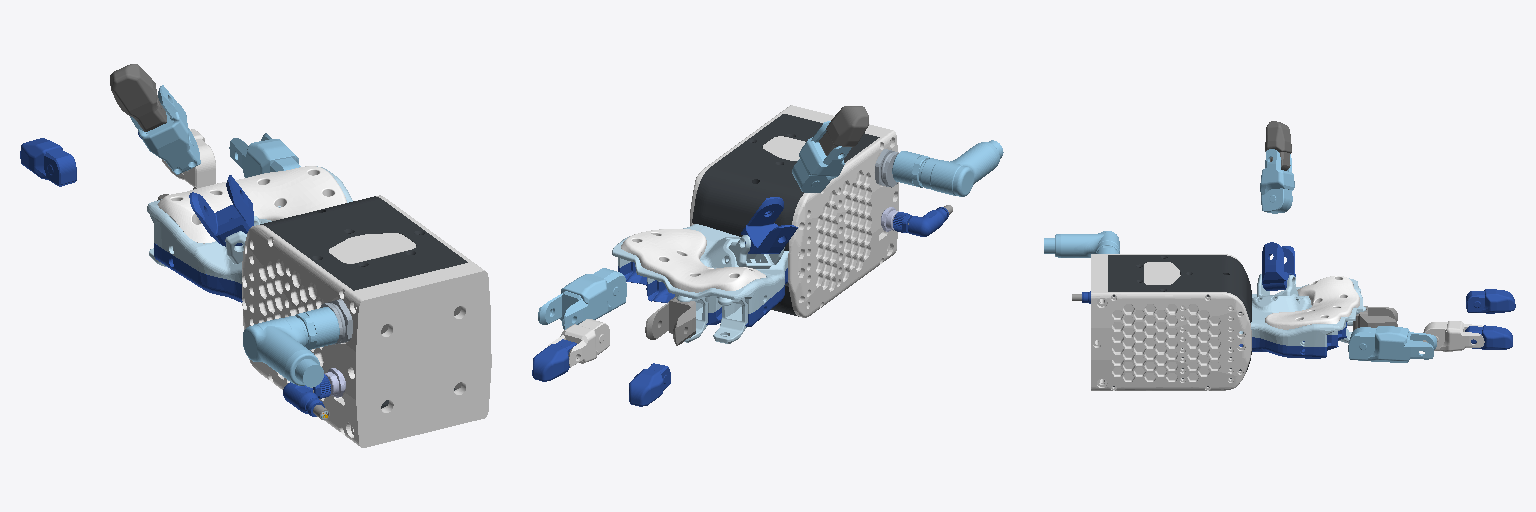
--- Facts derived from the render (not from the file) ---
The picture shows the robot from 3 angles, left to right: view 1: azimuth 30°, elevation 25°; view 2: azimuth 150°, elevation 25°; view 3: azimuth 270°, elevation 25°; orthographic projection.
Robot: Artus3D_LeftHand — 22 links, 21 joints (20 revolute, 1 fixed); root link base_link; default pose: all joints at 0.
Visible links, largest first — view 1: left_-_forearm_and_palm_subassembly_copy_1, part_1_19, part_1_20, part_1_17, part_1_6, d1_urdf_mk_5_3, part_1_11; view 2: left_-_forearm_and_palm_subassembly_copy_1, part_1_6, part_1_19, part_1_17, part_1_4, part_1_11, part_1_20, d1_urdf_mk_5_3, d1_urdf_mk_5_4; view 3: left_-_forearm_and_palm_subassembly_copy_1, part_1_6, part_1_19, part_1_17, part_1_11, d1_urdf_mk_5_3, part_1_20, d1_urdf_mk_5_4, part_1_4.
Boxes of the visible links, x1,y1,x2,y2 form: left_-_forearm_and_palm_subassembly_copy_1: (147, 166, 491, 447); part_1_19: (130, 85, 200, 174); part_1_20: (110, 64, 166, 131); part_1_17: (189, 175, 253, 246); part_1_6: (229, 133, 300, 177); d1_urdf_mk_5_3: (20, 138, 76, 186); part_1_11: (162, 129, 215, 187); left_-_forearm_and_palm_subassembly_copy_1: (612, 105, 1003, 343); part_1_6: (538, 268, 626, 329); part_1_19: (792, 121, 851, 192); part_1_17: (741, 197, 797, 253); part_1_4: (645, 297, 695, 345); part_1_11: (548, 319, 609, 367); part_1_20: (819, 106, 868, 155); d1_urdf_mk_5_3: (629, 363, 670, 406); d1_urdf_mk_5_4: (532, 339, 576, 381); left_-_forearm_and_palm_subassembly_copy_1: (1044, 231, 1365, 390); part_1_6: (1348, 326, 1436, 362); part_1_19: (1260, 149, 1294, 213); part_1_17: (1262, 242, 1295, 290); part_1_11: (1423, 321, 1484, 351); d1_urdf_mk_5_3: (1466, 289, 1515, 313); part_1_20: (1265, 121, 1291, 170); d1_urdf_mk_5_4: (1465, 325, 1512, 349); part_1_4: (1353, 306, 1397, 330).
Size in the robot's own frame: 0.1328 by 0.3002 by 0.1421 metres.
Meshes: 48 distinct files referenced, 45 mesh visuals loaded (33 binary STL); not drawn: 16 (reference not matched to a file when rendering).

URDF robot description (Artus3D_LeftHand):
<robot name="Artus3D_LeftHand">
<link name= "base_link"/>


<joint name="virtual" type="fixed">
<origin xyz="0 0 0" rpy="0 3.14 0"/>
<parent link="base_link"/>
<child link="left_-_forearm_and_palm_subassembly_copy_1"/>
</joint>

<link name="left_-_forearm_and_palm_subassembly_copy_1">
<visual>
<origin xyz="0.054879955648381877065 0.0076883312241074327695 0.008260321555686685191" rpy="1.570796326794896336 -8.0686821653843871675e-17 -3.141592653589793116" />
<geometry>
<mesh filename="meshes/7138k48_nano_m8_connector_6.stl"/>
</geometry>
<material name="7138k48_nano_m8_connector_6_material">
<color rgba="0.76862745098039220171 0.88627450980392152857 0.95294117647058818044 1.0"/>
</material>
</visual>
<collision>
<origin xyz="0.054879955648381877065 0.0076883312241074327695 0.008260321555686685191" rpy="1.570796326794896336 -8.0686821653843871675e-17 -3.141592653589793116" />
<geometry>
<mesh filename="meshes/7138k48_nano_m8_connector_6.stl"/>
</geometry>
</collision>
<visual>
<origin xyz="0.054879955648381974209 0.0076883312241073096041 0.0082603215556865429436" rpy="1.5707963267948779063 -2.2864627182922414808e-17 3.141592653589793116" />
<geometry>
<mesh filename="meshes/7138k48_nano_m8_connector_9.stl"/>
</geometry>
<material name="7138k48_nano_m8_connector_9_material">
<color rgba="0.98039215686274505668 0.71372549019607844922 0.0039215686274509803377 1.0"/>
</material>
</visual>
<collision>
<origin xyz="0.054879955648381974209 0.0076883312241073096041 0.0082603215556865429436" rpy="1.5707963267948779063 -2.2864627182922414808e-17 3.141592653589793116" />
<geometry>
<mesh filename="meshes/7138k48_nano_m8_connector_9.stl"/>
</geometry>
</collision>
<visual>
<origin xyz="0.054879955648381974209 0.0076883312241073096041 0.0082603215556865429436" rpy="1.5707963267948779063 -2.2864627182922414808e-17 3.141592653589793116" />
<geometry>
<mesh filename="meshes/7138k48_nano_m8_connector_12.stl"/>
</geometry>
<material name="7138k48_nano_m8_connector_12_material">
<color rgba="0.2313725490196078538 0.38039215686274507888 0.7058823529411765163 1.0"/>
</material>
</visual>
<collision>
<origin xyz="0.054879955648381974209 0.0076883312241073096041 0.0082603215556865429436" rpy="1.5707963267948779063 -2.2864627182922414808e-17 3.141592653589793116" />
<geometry>
<mesh filename="meshes/7138k48_nano_m8_connector_12.stl"/>
</geometry>
</collision>
<visual>
<origin xyz="0.10782996888245702238 0.17284073122410725798 0.013563106819823936289" rpy="0 -0 3.141592653589793116" />
<geometry>
<mesh filename="meshes/l_forearm_back_cover.stl"/>
</geometry>
<material name="l_forearm_back_cover_material">
<color rgba="0.26274509803921569651 0.28235294117647058432 0.30196078431372547213 1.0"/>
</material>
</visual>
<collision>
<origin xyz="0.10782996888245702238 0.17284073122410725798 0.013563106819823936289" rpy="0 -0 3.141592653589793116" />
<geometry>
<mesh filename="meshes/l_forearm_back_cover.stl"/>
</geometry>
</collision>
<visual>
<origin xyz="0.0080299688824571058277 0.25059073122410657763 0.0049131068198240649553" rpy="-1.613736433077298981e-16 1.3010426069826057152e-15 -1.5707963267948970021" />
<geometry>
<mesh filename="meshes/d5-_lring.stl"/>
</geometry>
<material name="d5-_lring_material">
<color rgba="0.76862745098039220171 0.88627450980392152857 0.95294117647058818044 1.0"/>
</material>
</visual>
<collision>
<origin xyz="0.0080299688824571058277 0.25059073122410657763 0.0049131068198240649553" rpy="-1.613736433077298981e-16 1.3010426069826057152e-15 -1.5707963267948970021" />
<geometry>
<mesh filename="meshes/d5-_lring.stl"/>
</geometry>
</collision>
<visual>
<origin xyz="0.035076299430739449337 0.24734466793926807027 0.0019131068198240622907" rpy="-2.4771671902375037252e-16 1.3489052410272972017e-15 -1.6406094968746700591" />
<geometry>
<mesh filename="meshes/d5-_lring.stl"/>
</geometry>
<material name="d5-_lring_material">
<color rgba="0.76862745098039220171 0.88627450980392152857 0.95294117647058818044 1.0"/>
</material>
</visual>
<collision>
<origin xyz="0.035076299430739449337 0.24734466793926807027 0.0019131068198240622907" rpy="-2.4771671902375037252e-16 1.3489052410272972017e-15 -1.6406094968746700591" />
<geometry>
<mesh filename="meshes/d5-_lring.stl"/>
</geometry>
</collision>
<visual>
<origin xyz="0.054879955648381877065 0.0076883312241074327695 0.008260321555686685191" rpy="1.570796326794896336 -8.0686821653843871675e-17 -3.141592653589793116" />
<geometry>
<mesh filename="meshes/7138k48_nano_m8_connector_1.stl"/>
</geometry>
<material name="7138k48_nano_m8_connector_1_material">
<color rgba="0.98039215686274505668 0.71372549019607844922 0.0039215686274509803377 1.0"/>
</material>
</visual>
<collision>
<origin xyz="0.054879955648381877065 0.0076883312241074327695 0.008260321555686685191" rpy="1.570796326794896336 -8.0686821653843871675e-17 -3.141592653589793116" />
<geometry>
<mesh filename="meshes/7138k48_nano_m8_connector_1.stl"/>
</geometry>
</collision>
<visual>
<origin xyz="0.054879955648381877065 0.0076883312241074327695 0.008260321555686685191" rpy="1.570796326794896336 -8.0686821653843871675e-17 -3.141592653589793116" />
<geometry>
<mesh filename="meshes/7138k48_nano_m8_connector_9.stl"/>
</geometry>
<material name="7138k48_nano_m8_connector_9_material">
<color rgba="0.98039215686274505668 0.71372549019607844922 0.0039215686274509803377 1.0"/>
</material>
</visual>
<collision>
<origin xyz="0.054879955648381877065 0.0076883312241074327695 0.008260321555686685191" rpy="1.570796326794896336 -8.0686821653843871675e-17 -3.141592653589793116" />
<geometry>
<mesh filename="meshes/7138k48_nano_m8_connector_9.stl"/>
</geometry>
</collision>
<visual>
<origin xyz="0.054879955648381877065 0.0076883312241074327695 0.008260321555686685191" rpy="1.570796326794896336 -8.0686821653843871675e-17 -3.141592653589793116" />
<geometry>
<mesh filename="meshes/7138k48_nano_m8_connector_11.stl"/>
</geometry>
<material name="7138k48_nano_m8_connector_11_material">
<color rgba="0.64705882352941179736 0.64705882352941179736 0.64705882352941179736 1.0"/>
</material>
</visual>
<collision>
<origin xyz="0.054879955648381877065 0.0076883312241074327695 0.008260321555686685191" rpy="1.570796326794896336 -8.0686821653843871675e-17 -3.141592653589793116" />
<geometry>
<mesh filename="meshes/7138k48_nano_m8_connector_11.stl"/>
</geometry>
</collision>
<visual>
<origin xyz="0.054879955648381877065 0.0076883312241074327695 0.008260321555686685191" rpy="1.570796326794896336 -8.0686821653843871675e-17 -3.141592653589793116" />
<geometry>
<mesh filename="meshes/7138k48_nano_m8_connector_5.stl"/>
</geometry>
<material name="7138k48_nano_m8_connector_5_material">
<color rgba="0.91764705882352937127 0.91764705882352937127 0.91764705882352937127 1.0"/>
</material>
</visual>
<collision>
<origin xyz="0.054879955648381877065 0.0076883312241074327695 0.008260321555686685191" rpy="1.570796326794896336 -8.0686821653843871675e-17 -3.141592653589793116" />
<geometry>
<mesh filename="meshes/7138k48_nano_m8_connector_5.stl"/>
</geometry>
</collision>
<visual>
<origin xyz="0.054879955648381974209 0.0076883312241073096041 0.0082603215556865429436" rpy="1.5707963267948779063 -2.2864627182922414808e-17 3.141592653589793116" />
<geometry>
<mesh filename="meshes/7138k48_nano_m8_connector_2.stl"/>
</geometry>
<material name="7138k48_nano_m8_connector_2_material">
<color rgba="0.61568627450980395466 0.81176470588235294379 0.92941176470588238168 1.0"/>
</material>
</visual>
<collision>
<origin xyz="0.054879955648381974209 0.0076883312241073096041 0.0082603215556865429436" rpy="1.5707963267948779063 -2.2864627182922414808e-17 3.141592653589793116" />
<geometry>
<mesh filename="meshes/7138k48_nano_m8_connector_2.stl"/>
</geometry>
</collision>
<visual>
<origin xyz="0.054879955648381974209 0.0076883312241073096041 0.0082603215556865429436" rpy="1.5707963267948779063 -2.2864627182922414808e-17 3.141592653589793116" />
<geometry>
<mesh filename="meshes/7138k48_nano_m8_connector_8.stl"/>
</geometry>
<material name="7138k48_nano_m8_connector_8_material">
<color rgba="0.49803921568627451677 0.49803921568627451677 0.49803921568627451677 1.0"/>
</material>
</visual>
<collision>
<origin xyz="0.054879955648381974209 0.0076883312241073096041 0.0082603215556865429436" rpy="1.5707963267948779063 -2.2864627182922414808e-17 3.141592653589793116" />
<geometry>
<mesh filename="meshes/7138k48_nano_m8_connector_8.stl"/>
</geometry>
</collision>
<visual>
<origin xyz="0.054879955648381877065 0.0076883312241074327695 0.008260321555686685191" rpy="1.570796326794896336 -8.0686821653843871675e-17 -3.141592653589793116" />
<geometry>
<mesh filename="meshes/7138k48_nano_m8_connector_3.stl"/>
</geometry>
<material name="7138k48_nano_m8_connector_3_material">
<color rgba="0.64705882352941179736 0.64705882352941179736 0.64705882352941179736 1.0"/>
</material>
</visual>
<collision>
<origin xyz="0.054879955648381877065 0.0076883312241074327695 0.008260321555686685191" rpy="1.570796326794896336 -8.0686821653843871675e-17 -3.141592653589793116" />
<geometry>
<mesh filename="meshes/7138k48_nano_m8_connector_3.stl"/>
</geometry>
</collision>
<visual>
<origin xyz="0.054879955648381877065 0.0076883312241074327695 0.008260321555686685191" rpy="1.570796326794896336 -8.0686821653843871675e-17 -3.141592653589793116" />
<geometry>
<mesh filename="meshes/7138k48_nano_m8_connector_8.stl"/>
</geometry>
<material name="7138k48_nano_m8_connector_8_material">
<color rgba="0.49803921568627451677 0.49803921568627451677 0.49803921568627451677 1.0"/>
</material>
</visual>
<collision>
<origin xyz="0.054879955648381877065 0.0076883312241074327695 0.008260321555686685191" rpy="1.570796326794896336 -8.0686821653843871675e-17 -3.141592653589793116" />
<geometry>
<mesh filename="meshes/7138k48_nano_m8_connector_8.stl"/>
</geometry>
</collision>
<visual>
<origin xyz="0.054879955648381974209 0.0076883312241073096041 0.0082603215556865429436" rpy="1.5707963267948779063 -2.2864627182922414808e-17 3.141592653589793116" />
<geometry>
<mesh filename="meshes/7138k48_nano_m8_connector_11.stl"/>
</geometry>
<material name="7138k48_nano_m8_connector_11_material">
<color rgba="0.64705882352941179736 0.64705882352941179736 0.64705882352941179736 1.0"/>
</material>
</visual>
<collision>
<origin xyz="0.054879955648381974209 0.0076883312241073096041 0.0082603215556865429436" rpy="1.5707963267948779063 -2.2864627182922414808e-17 3.141592653589793116" />
<geometry>
<mesh filename="meshes/7138k48_nano_m8_connector_11.stl"/>
</geometry>
</collision>
<visual>
<origin xyz="0.054879955648381877065 0.0076883312241074327695 0.008260321555686685191" rpy="1.570796326794896336 -8.0686821653843871675e-17 -3.141592653589793116" />
<geometry>
<mesh filename="meshes/7138k48_nano_m8_connector_10.stl"/>
</geometry>
<material name="7138k48_nano_m8_connector_10_material">
<color rgba="0.61568627450980395466 0.81176470588235294379 0.92941176470588238168 1.0"/>
</material>
</visual>
<collision>
<origin xyz="0.054879955648381877065 0.0076883312241074327695 0.008260321555686685191" rpy="1.570796326794896336 -8.0686821653843871675e-17 -3.141592653589793116" />
<geometry>
<mesh filename="meshes/7138k48_nano_m8_connector_10.stl"/>
</geometry>
</collision>
<visual>
<origin xyz="0.10782996888245702238 0.17284073122410725798 0.013563106819823936289" rpy="0 -0 3.141592653589793116" />
<geometry>
<mesh filename="meshes/l_pinky_side_forearm_cover.stl"/>
</geometry>
<material name="l_pinky_side_forearm_cover_material">
<color rgba="0.91764705882352937127 0.91764705882352937127 0.91764705882352937127 1.0"/>
</material>
</visual>
<collision>
<origin xyz="0.10782996888245702238 0.17284073122410725798 0.013563106819823936289" rpy="0 -0 3.141592653589793116" />
<geometry>
<mesh filename="meshes/l_pinky_side_forearm_cover.stl"/>
</geometry>
</collision>
<visual>
<origin xyz="0.022279968648382122987 0.015063331224107301409 0.0082603215556866903951" rpy="-1.570796326794896558 -1.5707963267948787944 0" />
<geometry>
<mesh filename="meshes/connector_2.stl"/>
</geometry>
<material name="connector_2_material">
<color rgba="0.79215686274509800047 0.81960784313725487671 0.93333333333333334814 1.0"/>
</material>
</visual>
<collision>
<origin xyz="0.022279968648382122987 0.015063331224107301409 0.0082603215556866903951" rpy="-1.570796326794896558 -1.5707963267948787944 0" />
<geometry>
<mesh filename="meshes/connector_2.stl"/>
</geometry>
</collision>
<visual>
<origin xyz="0.063795199711502548201 0.12025621774223599347 -0.083642017233696949741" rpy="-1.066316662172226204 -1.0057357117289822401 -3.1415926535897922278" />
<geometry>
<mesh filename="meshes/t5.stl"/>
</geometry>
<material name="t5_material">
<color rgba="0.76862745098039220171 0.88627450980392152857 0.95294117647058818044 1.0"/>
</material>
</visual>
<collision>
<origin xyz="0.063795199711502548201 0.12025621774223599347 -0.083642017233696949741" rpy="-1.066316662172226204 -1.0057357117289822401 -3.1415926535897922278" />
<geometry>
<mesh filename="meshes/t5.stl"/>
</geometry>
</collision>
<visual>
<origin xyz="0.017979967560434094442 0.01509220840014055369 -0.019726257885878662607" rpy="1.1839785150533513619e-17 -1.570796326794896558 0" />
<geometry>
<mesh filename="meshes/c-t4140l12041-000.stl"/>
</geometry>
<material name="c-t4140l12041-000_material">
<color rgba="0.6941176470588235059 0.74117647058823532547 0.78823529411764703401 1.0"/>
</material>
</visual>
<collision>
<origin xyz="0.017979967560434094442 0.01509220840014055369 -0.019726257885878662607" rpy="1.1839785150533513619e-17 -1.570796326794896558 0" />
<geometry>
<mesh filename="meshes/c-t4140l12041-000.stl"/>
</geometry>
</collision>
<visual>
<origin xyz="0.054879955648381974209 0.0076883312241073096041 0.0082603215556865429436" rpy="1.5707963267948779063 -2.2864627182922414808e-17 3.141592653589793116" />
<geometry>
<mesh filename="meshes/7138k48_nano_m8_connector_6.stl"/>
</geometry>
<material name="7138k48_nano_m8_connector_6_material">
<color rgba="0.76862745098039220171 0.88627450980392152857 0.95294117647058818044 1.0"/>
</material>
</visual>
<collision>
<origin xyz="0.054879955648381974209 0.0076883312241073096041 0.0082603215556865429436" rpy="1.5707963267948779063 -2.2864627182922414808e-17 3.141592653589793116" />
<geometry>
<mesh filename="meshes/7138k48_nano_m8_connector_6.stl"/>
</geometry>
</collision>
<visual>
<origin xyz="0.054879955648381877065 0.0076883312241074327695 0.008260321555686685191" rpy="1.570796326794896336 -8.0686821653843871675e-17 -3.141592653589793116" />
<geometry>
<mesh filename="meshes/7138k48_nano_m8_connector_7.stl"/>
</geometry>
<material name="7138k48_nano_m8_connector_7_material">
<color rgba="0.97254901960784312376 0.52941176470588235947 0.0039215686274509803377 1.0"/>
</material>
</visual>
<collision>
<origin xyz="0.054879955648381877065 0.0076883312241074327695 0.008260321555686685191" rpy="1.570796326794896336 -8.0686821653843871675e-17 -3.141592653589793116" />
<geometry>
<mesh filename="meshes/7138k48_nano_m8_connector_7.stl"/>
</geometry>
</collision>
<visual>
<origin xyz="-0.0079700311175427782789 0.172840731224104871 0.013563106819822480856" rpy="1.7374990335382516566e-14 5.133809799176772636e-30 3.141592653589793116" />
<geometry>
<mesh filename="meshes/forearm_front_heat_sink.stl"/>
</geometry>
<material name="forearm_front_heat_sink_material">
<color rgba="0.91764705882352937127 0.91764705882352937127 0.91764705882352937127 1.0"/>
</material>
</visual>
<collision>
<origin xyz="-0.0079700311175427782789 0.172840731224104871 0.013563106819822480856" rpy="1.7374990335382516566e-14 5.133809799176772636e-30 3.141592653589793116" />
<geometry>
<mesh filename="meshes/forearm_front_heat_sink.stl"/>
</geometry>
</collision>
<visual>
<origin xyz="0.054879955648381974209 0.0076883312241073096041 0.0082603215556865429436" rpy="1.5707963267948779063 -2.2864627182922414808e-17 3.141592653589793116" />
<geometry>
<mesh filename="meshes/7138k48_nano_m8_connector_10.stl"/>
</geometry>
<material name="7138k48_nano_m8_connector_10_material">
<color rgba="0.61568627450980395466 0.81176470588235294379 0.92941176470588238168 1.0"/>
</material>
</visual>
<collision>
<origin xyz="0.054879955648381974209 0.0076883312241073096041 0.0082603215556865429436" rpy="1.5707963267948779063 -2.2864627182922414808e-17 3.141592653589793116" />
<geometry>
<mesh filename="meshes/7138k48_nano_m8_connector_10.stl"/>
</geometry>
</collision>
<visual>
<origin xyz="0.10782996888245702238 0.17284073122410725798 0.013563106819823936289" rpy="0 -0 3.141592653589793116" />
<geometry>
<mesh filename="meshes/l_thumb_side_forearm_cover.stl"/>
</geometry>
<material name="l_thumb_side_forearm_cover_material">
<color rgba="0.91764705882352937127 0.91764705882352937127 0.91764705882352937127 1.0"/>
</material>
</visual>
<collision>
<origin xyz="0.10782996888245702238 0.17284073122410725798 0.013563106819823936289" rpy="0 -0 3.141592653589793116" />
<geometry>
<mesh filename="meshes/l_thumb_side_forearm_cover.stl"/>
</geometry>
</collision>
<visual>
<origin xyz="-0.03128830360089163154 -0.033881374576997511094 0.013563106819823943228" rpy="0 -1.4313686678903165613e-16 -3.05311331771919084e-16" />
<geometry>
<mesh filename="meshes/part_3.stl"/>
</geometry>
<material name="part_3_material">
<color rgba="0.2313725490196078538 0.38039215686274507888 0.7058823529411765163 1.0"/>
</material>
</visual>
<collision>
<origin xyz="-0.03128830360089163154 -0.033881374576997511094 0.013563106819823943228" rpy="0 -1.4313686678903165613e-16 -3.05311331771919084e-16" />
<geometry>
<mesh filename="meshes/part_3.stl"/>
</geometry>
</collision>
<visual>
<origin xyz="0.073436882148667934067 0.16826703430033540521 0.01356310681982392935" rpy="-1.9428902930940251783e-16 -5.5511151231257738274e-16 3.0019663134302465579" />
<geometry>
<mesh filename="meshes/left_palm_grip.stl"/>
</geometry>
<material name="left_palm_grip_material">
<color rgba="1 1 1 1.0"/>
</material>
</visual>
<collision>
<origin xyz="0.073436882148667934067 0.16826703430033540521 0.01356310681982392935" rpy="-1.9428902930940251783e-16 -5.5511151231257738274e-16 3.0019663134302465579" />
<geometry>
<mesh filename="meshes/left_palm_grip.stl"/>
</geometry>
</collision>
<visual>
<origin xyz="-0.031288303600891742562 -0.033881374576997844161 0.013563106819823950167" rpy="-9.5531463282139081189e-34 -1.4313686678903170543e-16 -3.0327332911414330937e-16" />
<geometry>
<mesh filename="meshes/part_4.stl"/>
</geometry>
<material name="part_4_material">
<color rgba="0.76862745098039220171 0.88627450980392152857 0.95294117647058818044 1.0"/>
</material>
</visual>
<collision>
<origin xyz="-0.031288303600891742562 -0.033881374576997844161 0.013563106819823950167" rpy="-9.5531463282139081189e-34 -1.4313686678903170543e-16 -3.0327332911414330937e-16" />
<geometry>
<mesh filename="meshes/part_4.stl"/>
</geometry>
</collision>
<visual>
<origin xyz="0.054879955648381974209 0.0076883312241073096041 0.0082603215556865429436" rpy="1.5707963267948779063 -2.2864627182922414808e-17 3.141592653589793116" />
<geometry>
<mesh filename="meshes/7138k48_nano_m8_connector_7.stl"/>
</geometry>
<material name="7138k48_nano_m8_connector_7_material">
<color rgba="0.97254901960784312376 0.52941176470588235947 0.0039215686274509803377 1.0"/>
</material>
</visual>
<collision>
<origin xyz="0.054879955648381974209 0.0076883312241073096041 0.0082603215556865429436" rpy="1.5707963267948779063 -2.2864627182922414808e-17 3.141592653589793116" />
<geometry>
<mesh filename="meshes/7138k48_nano_m8_connector_7.stl"/>
</geometry>
</collision>
<visual>
<origin xyz="0.054879955648381974209 0.0076883312241073096041 0.0082603215556865429436" rpy="1.5707963267948779063 -2.2864627182922414808e-17 3.141592653589793116" />
<geometry>
<mesh filename="meshes/7138k48_nano_m8_connector_3.stl"/>
</geometry>
<material name="7138k48_nano_m8_connector_3_material">
<color rgba="0.64705882352941179736 0.64705882352941179736 0.64705882352941179736 1.0"/>
</material>
</visual>
<collision>
<origin xyz="0.054879955648381974209 0.0076883312241073096041 0.0082603215556865429436" rpy="1.5707963267948779063 -2.2864627182922414808e-17 3.141592653589793116" />
<geometry>
<mesh filename="meshes/7138k48_nano_m8_connector_3.stl"/>
</geometry>
</collision>
<visual>
<origin xyz="0.054879955648381974209 0.0076883312241073096041 0.0082603215556865429436" rpy="1.5707963267948779063 -2.2864627182922414808e-17 3.141592653589793116" />
<geometry>
<mesh filename="meshes/7138k48_nano_m8_connector_4.stl"/>
</geometry>
<material name="7138k48_nano_m8_connector_4_material">
<color rgba="0.2313725490196078538 0.38039215686274507888 0.7058823529411765163 1.0"/>
</material>
</visual>
<collision>
<origin xyz="0.054879955648381974209 0.0076883312241073096041 0.0082603215556865429436" rpy="1.5707963267948779063 -2.2864627182922414808e-17 3.141592653589793116" />
<geometry>
<mesh filename="meshes/7138k48_nano_m8_connector_4.stl"/>
</geometry>
</collision>
<visual>
<origin xyz="0.054879955648381974209 0.0076883312241073096041 0.0082603215556865429436" rpy="1.5707963267948779063 -2.2864627182922414808e-17 3.141592653589793116" />
<geometry>
<mesh filename="meshes/7138k48_nano_m8_connector_1.stl"/>
</geometry>
<material name="7138k48_nano_m8_connector_1_material">
<color rgba="0.98039215686274505668 0.71372549019607844922 0.0039215686274509803377 1.0"/>
</material>
</visual>
<collision>
<origin xyz="0.054879955648381974209 0.0076883312241073096041 0.0082603215556865429436" rpy="1.5707963267948779063 -2.2864627182922414808e-17 3.141592653589793116" />
<geometry>
<mesh filename="meshes/7138k48_nano_m8_connector_1.stl"/>
</geometry>
</collision>
<visual>
<origin xyz="-0.018758373249789239701 0.24595684631360603678 0.0019131068198240935158" rpy="-7.4244371424405918453e-17 1.2489542737373337839e-15 -1.5009831567151239451" />
<geometry>
<mesh filename="meshes/d5_-_lmiddle.stl"/>
</geometry>
<material name="d5_-_lmiddle_material">
<color rgba="0.76862745098039220171 0.88627450980392152857 0.95294117647058818044 1.0"/>
</material>
</visual>
<collision>
<origin xyz="-0.018758373249789239701 0.24595684631360603678 0.0019131068198240935158" rpy="-7.4244371424405918453e-17 1.2489542737373337839e-15 -1.5009831567151239451" />
<geometry>
<mesh filename="meshes/d5_-_lmiddle.stl"/>
</geometry>
</collision>
<visual>
<origin xyz="0.054879955648381877065 0.0076883312241074327695 0.008260321555686685191" rpy="1.570796326794896336 -8.0686821653843871675e-17 -3.141592653589793116" />
<geometry>
<mesh filename="meshes/7138k48_nano_m8_connector_2.stl"/>
</geometry>
<material name="7138k48_nano_m8_connector_2_material">
<color rgba="0.61568627450980395466 0.81176470588235294379 0.92941176470588238168 1.0"/>
</material>
</visual>
<collision>
<origin xyz="0.054879955648381877065 0.0076883312241074327695 0.008260321555686685191" rpy="1.570796326794896336 -8.0686821653843871675e-17 -3.141592653589793116" />
<geometry>
<mesh filename="meshes/7138k48_nano_m8_connector_2.stl"/>
</geometry>
</collision>
<visual>
<origin xyz="0.10782996888245702238 0.17284073122410725798 0.013563106819823936289" rpy="0 -0 3.141592653589793116" />
<geometry>
<mesh filename="meshes/dim_part.stl"/>
</geometry>
<material name="dim_part_material">
<color rgba="0.91764705882352937127 0.91764705882352937127 0.91764705882352937127 1.0"/>
</material>
</visual>
<collision>
<origin xyz="0.10782996888245702238 0.17284073122410725798 0.013563106819823936289" rpy="0 -0 3.141592653589793116" />
<geometry>
<mesh filename="meshes/dim_part.stl"/>
</geometry>
</collision>
<visual>
<origin xyz="0.039179967560434084128 0.011805188473216271169 -0.020794275402046678153" rpy="1.57079632679489678 -1.753580260035135097e-14 -1.57079632679489678" />
<geometry>
<mesh filename="meshes/c-t41514c9l14-002.stl"/>
</geometry>
<material name="c-t41514c9l14-002_material">
<color rgba="0.61568627450980395466 0.81176470588235294379 0.92941176470588238168 1.0"/>
</material>
</visual>
<collision>
<origin xyz="0.039179967560434084128 0.011805188473216271169 -0.020794275402046678153" rpy="1.57079632679489678 -1.753580260035135097e-14 -1.57079632679489678" />
<geometry>
<mesh filename="meshes/c-t41514c9l14-002.stl"/>
</geometry>
</collision>
<visual>
<origin xyz="0.054879955648381974209 0.0076883312241073096041 0.0082603215556865429436" rpy="1.5707963267948779063 -2.2864627182922414808e-17 3.141592653589793116" />
<geometry>
<mesh filename="meshes/7138k48_nano_m8_connector_5.stl"/>
</geometry>
<material name="7138k48_nano_m8_connector_5_material">
<color rgba="0.91764705882352937127 0.91764705882352937127 0.91764705882352937127 1.0"/>
</material>
</visual>
<collision>
<origin xyz="0.054879955648381974209 0.0076883312241073096041 0.0082603215556865429436" rpy="1.5707963267948779063 -2.2864627182922414808e-17 3.141592653589793116" />
<geometry>
<mesh filename="meshes/7138k48_nano_m8_connector_5.stl"/>
</geometry>
</collision>
<visual>
<origin xyz="0.054879955648381877065 0.0076883312241074327695 0.008260321555686685191" rpy="1.570796326794896336 -8.0686821653843871675e-17 -3.141592653589793116" />
<geometry>
<mesh filename="meshes/7138k48_nano_m8_connector_12.stl"/>
</geometry>
<material name="7138k48_nano_m8_connector_12_material">
<color rgba="0.2313725490196078538 0.38039215686274507888 0.7058823529411765163 1.0"/>
</material>
</visual>
<collision>
<origin xyz="0.054879955648381877065 0.0076883312241074327695 0.008260321555686685191" rpy="1.570796326794896336 -8.0686821653843871675e-17 -3.141592653589793116" />
<geometry>
<mesh filename="meshes/7138k48_nano_m8_connector_12.stl"/>
</geometry>
</collision>
<visual>
<origin xyz="0.054879955648381877065 0.0076883312241074327695 0.008260321555686685191" rpy="1.570796326794896336 -8.0686821653843871675e-17 -3.141592653589793116" />
<geometry>
<mesh filename="meshes/7138k48_nano_m8_connector_4.stl"/>
</geometry>
<material name="7138k48_nano_m8_connector_4_material">
<color rgba="0.2313725490196078538 0.38039215686274507888 0.7058823529411765163 1.0"/>
</material>
</visual>
<collision>
<origin xyz="0.054879955648381877065 0.0076883312241074327695 0.008260321555686685191" rpy="1.570796326794896336 -8.0686821653843871675e-17 -3.141592653589793116" />
<geometry>
<mesh filename="meshes/7138k48_nano_m8_connector_4.stl"/>
</geometry>
</collision>
<visual>
<origin xyz="0.10782996888245702238 0.17284073122410725798 0.013563106819823936289" rpy="0 -0 3.141592653589793116" />
<geometry>
<mesh filename="meshes/l_forearm_front_cover.stl"/>
</geometry>
<material name="l_forearm_front_cover_material">
<color rgba="0.26274509803921569651 0.28235294117647058432 0.30196078431372547213 1.0"/>
</material>
</visual>
<collision>
<origin xyz="0.10782996888245702238 0.17284073122410725798 0.013563106819823936289" rpy="0 -0 3.141592653589793116" />
<geometry>
<mesh filename="meshes/l_forearm_front_cover.stl"/>
</geometry>
</collision>
<visual>
<origin xyz="-0.043264041709898476418 0.23804985426509689406 -0.001086893180175957721" rpy="1.3301558956251336654e-17 1.1921244715021859299e-15 -1.4486232791552937638" />
<geometry>
<mesh filename="meshes/d5_-_lindex.stl"/>
</geometry>
<material name="d5_-_lindex_material">
<color rgba="0.76862745098039220171 0.88627450980392152857 0.95294117647058818044 1.0"/>
</material>
</visual>
<collision>
<origin xyz="-0.043264041709898476418 0.23804985426509689406 -0.001086893180175957721" rpy="1.3301558956251336654e-17 1.1921244715021859299e-15 -1.4486232791552937638" />
<geometry>
<mesh filename="meshes/d5_-_lindex.stl"/>
</geometry>
</collision>
<inertial>
<origin xyz="-5.2941402447999662631e-05 0.028035487763612951945 -0.0020648475625446665281" rpy="0 0 0"/>
<mass value="0.16046300126368473471" />
<inertia ixx="0.00021183840702976855985" ixy="-7.9560914918038741734e-07"  ixz="-6.8078112096625444763e-07" iyy="0.0001553362613630856928" iyz="7.3329266511495605341e-06" izz="0.00021983078196426174885" />
</inertial>
</link>

<link name="part_1_3">
<visual>
<origin xyz="-0.0050000000000000044409 2.0816681711721685133e-17 -0.018500000000000099698" rpy="-1.4485681946286607074e-16 8.5979375613828706871e-16 4.5873601011248153631e-18" />
<geometry>
<mesh filename="meshes/part_1_3.stl"/>
</geometry>
<material name="part_1_3_material">
<color rgba="0.64705882352941179736 0.64705882352941179736 0.64705882352941179736 1.0"/>
</material>
</visual>
<collision>
<origin xyz="-0.0050000000000000044409 2.0816681711721685133e-17 -0.018500000000000099698" rpy="-1.4485681946286607074e-16 8.5979375613828706871e-16 4.5873601011248153631e-18" />
<geometry>
<mesh filename="meshes/part_1_3.stl"/>
</geometry>
</collision>
<inertial>
<origin xyz="0 0 0" rpy="0 0 0"/>
<mass value="0" />
<inertia ixx="0" ixy="0"  ixz="0" iyy="0" iyz="0" izz="0" />
</inertial>
</link>

<link name="part_1_8">
<visual>
<origin xyz="-0.028552407289709619276 -0.0078589767938891923887 -0.0060000000000051158244" rpy="-1.570796326794896558 9.2407166978388321345e-16 -1.9721522630525295135e-31" />
<geometry>
<mesh filename="meshes/part_1_8.stl"/>
</geometry>
<material name="part_1_8_material">
<color rgba="0.61568627450980395466 0.81176470588235294379 0.92941176470588238168 1.0"/>
</material>
</visual>
<collision>
<origin xyz="-0.028552407289709619276 -0.0078589767938891923887 -0.0060000000000051158244" rpy="-1.570796326794896558 9.2407166978388321345e-16 -1.9721522630525295135e-31" />
<geometry>
<mesh filename="meshes/part_1_8.stl"/>
</geometry>
</collision>
<inertial>
<origin xyz="0 0 0" rpy="0 0 0"/>
<mass value="0" />
<inertia ixx="0" ixy="0"  ixz="0" iyy="0" iyz="0" izz="0" />
</inertial>
</link>

<link name="part_1_9">
<visual>
<origin xyz="-0.017524803018038798141 -0.0071295923980055943281 -0.0052500000000001937478" rpy="-1.5707963267948970021 5.0861698098317028433e-16 0" />
<geometry>
<mesh filename="meshes/part_1_9.stl"/>
</geometry>
<material name="part_1_9_material">
<color rgba="0.91764705882352937127 0.91764705882352937127 0.91764705882352937127 1.0"/>
</material>
</visual>
<collision>
<origin xyz="-0.017524803018038798141 -0.0071295923980055943281 -0.0052500000000001937478" rpy="-1.5707963267948970021 5.0861698098317028433e-16 0" />
<geometry>
<mesh filename="meshes/part_1_9.stl"/>
</geometry>
</collision>
<inertial>
<origin xyz="0 0 0" rpy="0 0 0"/>
<mass value="0" />
<inertia ixx="0" ixy="0"  ixz="0" iyy="0" iyz="0" izz="0" />
</inertial>
</link>

<link name="d1_urdf_mk_5_3">
<visual>
<origin xyz="-0.0090000000000002022826 -0.006000000000000002727 -0.0047499999999967186526" rpy="-1.5707963267948961139 7.9983014192980559009e-17 0" />
<geometry>
<mesh filename="meshes/d1_urdf_mk_5_3.stl"/>
</geometry>
<material name="d1_urdf_mk_5_3_material">
<color rgba="0.2313725490196078538 0.38039215686274507888 0.7058823529411765163 1.0"/>
</material>
</visual>
<collision>
<origin xyz="-0.0090000000000002022826 -0.006000000000000002727 -0.0047499999999967186526" rpy="-1.5707963267948961139 7.9983014192980559009e-17 0" />
<geometry>
<mesh filename="meshes/d1_urdf_mk_5_3.stl"/>
</geometry>
</collision>
<inertial>
<origin xyz="0 0 0" rpy="0 0 0"/>
<mass value="0" />
<inertia ixx="0" ixy="0"  ixz="0" iyy="0" iyz="0" izz="0" />
</inertial>
</link>

<joint name="Lindex_34" type="revolute">
<origin xyz="-0.024999999999999994449 -7.0928506124001700073e-16 -0.00050000000000002299549" rpy="2.0066649276559482195e-29 -4.4883270483744882001e-17 4.8495448730108675262e-16" />
<parent link="part_1_9" />
<child link="d1_urdf_mk_5_3" />
<axis xyz="0 0 1"/>
<limit effort="1" velocity="20" lower="0" upper="1.570796326794896558"/>
<joint_properties friction="0.0"/>
</joint>

<joint name="Lindex_23" type="revolute">
<origin xyz="-0.038000000000001005196 0.00074999999999993626452 -0.00074999999999993301192" rpy="-1.203012880462042723e-29 3.41204581855675586e-16 1.4584499174773930989e-15" />
<parent link="part_1_8" />
<child link="part_1_9" />
<axis xyz="0 0 1"/>
<limit effort="1" velocity="20" lower="0" upper="1.570796326794896558"/>
<joint_properties friction="0.0"/>
</joint>

<joint name="Lindex_12" type="revolute">
<origin xyz="-0.014749999999999957589 -0.0059999999999999810429 -0.0095000000000000466016" rpy="1.570796326794896558 -2.1139226626773704015e-15 -5.7890059765448730555e-17" />
<parent link="part_1_3" />
<child link="part_1_8" />
<axis xyz="0 0 1"/>
<limit effort="1" velocity="20" lower="0" upper="1.570796326794896558"/>
<joint_properties friction="0.0"/>
</joint>

<joint name="Lindex_01" type="revolute">
<origin xyz="0.029652733597133662524 0.16978406303156654 0.010663106819823960775" rpy="-2.4771671902211570481e-16 4.8154350303710264446e-16 -1.6406094968746700591" />
<parent link="left_-_forearm_and_palm_subassembly_copy_1" />
<child link="part_1_3" />
<axis xyz="0 0 1"/>
<limit effort="1" velocity="20" lower="-0.29670597283903604735" upper="0.29670597283903604735"/>
<joint_properties friction="0.0"/>
</joint>

<link name="part_1_2">
<visual>
<origin xyz="-0.0050000000000000044409 1.6696713456276768284e-17 -0.018500000000000099698" rpy="-1.4485681946286607074e-16 8.597937561382868715e-16 -1.4339799225139642273e-17" />
<geometry>
<mesh filename="meshes/part_1_2.stl"/>
</geometry>
<material name="part_1_2_material">
<color rgba="0.64705882352941179736 0.64705882352941179736 0.64705882352941179736 1.0"/>
</material>
</visual>
<collision>
<origin xyz="-0.0050000000000000044409 1.6696713456276768284e-17 -0.018500000000000099698" rpy="-1.4485681946286607074e-16 8.597937561382868715e-16 -1.4339799225139642273e-17" />
<geometry>
<mesh filename="meshes/part_1_2.stl"/>
</geometry>
</collision>
<inertial>
<origin xyz="0 0 0" rpy="0 0 0"/>
<mass value="0" />
<inertia ixx="0" ixy="0"  ixz="0" iyy="0" iyz="0" izz="0" />
</inertial>
</link>

<link name="part_1_7">
<visual>
<origin xyz="-0.028552407289709647031 -0.0078589767938891923887 -0.0060000000000051140897" rpy="-1.570796326794896558 9.1526915033679976139e-16 0" />
<geometry>
<mesh filename="meshes/part_1_7.stl"/>
</geometry>
<material name="part_1_7_material">
<color rgba="0.61568627450980395466 0.81176470588235294379 0.92941176470588238168 1.0"/>
</material>
</visual>
<collision>
<origin xyz="-0.028552407289709647031 -0.0078589767938891923887 -0.0060000000000051140897" rpy="-1.570796326794896558 9.1526915033679976139e-16 0" />
<geometry>
<mesh filename="meshes/part_1_7.stl"/>
</geometry>
</collision>
<inertial>
<origin xyz="0 0 0" rpy="0 0 0"/>
<mass value="0" />
<inertia ixx="0" ixy="0"  ixz="0" iyy="0" iyz="0" izz="0" />
</inertial>
</link>

<link name="part_1_11">
<visual>
<origin xyz="-0.017524803018038770386 -0.0071295923980049125818 -0.0052500000000001972172" rpy="-1.5707963267948970021 5.1823007402470732895e-16 0" />
<geometry>
<mesh filename="meshes/part_1_11.stl"/>
</geometry>
<material name="part_1_11_material">
<color rgba="0.91764705882352937127 0.91764705882352937127 0.91764705882352937127 1.0"/>
</material>
</visual>
<collision>
<origin xyz="-0.017524803018038770386 -0.0071295923980049125818 -0.0052500000000001972172" rpy="-1.5707963267948970021 5.1823007402470732895e-16 0" />
<geometry>
<mesh filename="meshes/part_1_11.stl"/>
</geometry>
</collision>
<inertial>
<origin xyz="0 0 0" rpy="0 0 0"/>
<mass value="0" />
<inertia ixx="0" ixy="0"  ixz="0" iyy="0" iyz="0" izz="0" />
</inertial>
</link>

<link name="d1_urdf_mk_5_4">
<visual>
<origin xyz="-0.0090000000000002300382 -0.0060000000000000035943 -0.0047499999999967203873" rpy="-1.5707963267948961139 8.8421966871375079061e-17 -2.3641221439399485555e-31" />
<geometry>
<mesh filename="meshes/d1_urdf_mk_5_4.stl"/>
</geometry>
<material name="d1_urdf_mk_5_4_material">
<color rgba="0.2313725490196078538 0.38039215686274507888 0.7058823529411765163 1.0"/>
</material>
</visual>
<collision>
<origin xyz="-0.0090000000000002300382 -0.0060000000000000035943 -0.0047499999999967203873" rpy="-1.5707963267948961139 8.8421966871375079061e-17 -2.3641221439399485555e-31" />
<geometry>
<mesh filename="meshes/d1_urdf_mk_5_4.stl"/>
</geometry>
</collision>
<inertial>
<origin xyz="0 0 0" rpy="0 0 0"/>
<mass value="0" />
<inertia ixx="0" ixy="0"  ixz="0" iyy="0" iyz="0" izz="0" />
</inertial>
</link>

<joint name="Lring_34" type="revolute">
<origin xyz="-0.024999999999999938938 -2.645453300864630819e-17 -0.00050000000000002212813" rpy="-4.6820137604398950592e-25 -4.0365766663570789377e-17 5.6101978012472483357e-17" />
<parent link="part_1_11" />
<child link="d1_urdf_mk_5_4" />
<axis xyz="0 0 1"/>
<limit effort="1" velocity="20" lower="0" upper="1.570796326794896558"/>
<joint_properties friction="0.0"/>
</joint>

<joint name="Lring_23" type="revolute">
<origin xyz="-0.038000000000001032952 0.00074999999999993973397 -0.00074999999999997377792" rpy="-7.6149513552962997927e-25 3.2096615247806722106e-16 -5.4165836784305664591e-17" />
<parent link="part_1_7" />
<child link="part_1_11" />
<axis xyz="0 0 1"/>
<limit effort="1" velocity="20" lower="0" upper="1.570796326794896558"/>
<joint_properties friction="0.0"/>
</joint>

<joint name="Lring_12" type="revolute">
<origin xyz="-0.014749999999999957589 -0.0060000000000000079312 -0.0095000000000000431322" rpy="1.570796326794896558 8.6342401206296741349e-16 -9.1473262590972008691e-17" />
<parent link="part_1_2" />
<child link="part_1_7" />
<axis xyz="0 0 1"/>
<limit effort="1" velocity="20" lower="0" upper="1.570796326794896558"/>
<joint_properties friction="0.0"/>
</joint>

<joint name="Lring_01" type="revolute">
<origin xyz="-0.01333480741618353789 0.16839624140590458978 0.010663106819823998939" rpy="-7.4244371424256663504e-17 3.8159253574891327622e-16 -1.5009831567149312104" />
<parent link="left_-_forearm_and_palm_subassembly_copy_1" />
<child link="part_1_2" />
<axis xyz="0 0 1"/>
<limit effort="1" velocity="20" lower="-0.29670597283903604735" upper="0.29670597283903604735"/>
<joint_properties friction="0.0"/>
</joint>

<link name="part_1_4">
<visual>
<origin xyz="-0.0050000000000000044409 1.2143064331837649661e-17 -0.018500000000000103167" rpy="-1.4485681946286604609e-16 8.5979375613828706871e-16 7.3147244699295210759e-32" />
<geometry>
<mesh filename="meshes/part_1_4.stl"/>
</geometry>
<material name="part_1_4_material">
<color rgba="0.64705882352941179736 0.64705882352941179736 0.64705882352941179736 1.0"/>
</material>
</visual>
<collision>
<origin xyz="-0.0050000000000000044409 1.2143064331837649661e-17 -0.018500000000000103167" rpy="-1.4485681946286604609e-16 8.5979375613828706871e-16 7.3147244699295210759e-32" />
<geometry>
<mesh filename="meshes/part_1_4.stl"/>
</geometry>
</collision>
<inertial>
<origin xyz="0 0 0" rpy="0 0 0"/>
<mass value="0" />
<inertia ixx="0" ixy="0"  ixz="0" iyy="0" iyz="0" izz="0" />
</inertial>
</link>

<link name="part_1_5">
<visual>
<origin xyz="-0.028552407289709619276 -0.0078589767938891941235 -0.0060000000000051158244" rpy="-1.570796326794896558 9.1312390131153511741e-16 1.7765682715981165162e-31" />
<geometry>
<mesh filename="meshes/part_1_5.stl"/>
</geometry>
<material name="part_1_5_material">
<color rgba="0.61568627450980395466 0.81176470588235294379 0.92941176470588238168 1.0"/>
</material>
</visual>
<collision>
<origin xyz="-0.028552407289709619276 -0.0078589767938891941235 -0.0060000000000051158244" rpy="-1.570796326794896558 9.1312390131153511741e-16 1.7765682715981165162e-31" />
<geometry>
<mesh filename="meshes/part_1_5.stl"/>
</geometry>
</collision>
<inertial>
<origin xyz="0 0 0" rpy="0 0 0"/>
<mass value="0" />
<inertia ixx="0" ixy="0"  ixz="0" iyy="0" iyz="0" izz="0" />
</inertial>
</link>

<link name="part_1_10">
<visual>
<origin xyz="-0.017524803018038770386 -0.0071295923980049125818 -0.0052500000000001972172" rpy="-1.5707963267948970021 5.1781495757909476566e-16 -3.9443045261050590271e-31" />
<geometry>
<mesh filename="meshes/part_1_10.stl"/>
</geometry>
<material name="part_1_10_material">
<color rgba="0.91764705882352937127 0.91764705882352937127 0.91764705882352937127 1.0"/>
</material>
</visual>
<collision>
<origin xyz="-0.017524803018038770386 -0.0071295923980049125818 -0.0052500000000001972172" rpy="-1.5707963267948970021 5.1781495757909476566e-16 -3.9443045261050590271e-31" />
<geometry>
<mesh filename="meshes/part_1_10.stl"/>
</geometry>
</collision>
<inertial>
<origin xyz="0 0 0" rpy="0 0 0"/>
<mass value="0" />
<inertia ixx="0" ixy="0"  ixz="0" iyy="0" iyz="0" izz="0" />
</inertial>
</link>

<link name="d1_urdf_mk_5_2">
<visual>
<origin xyz="-0.0090000000000002300382 -0.005999999999999961961 -0.0047499999999967203873" rpy="-1.5707963267948961139 8.3887279286789822708e-17 0" />
<geometry>
<mesh filename="meshes/d1_urdf_mk_5_2.stl"/>
</geometry>
<material name="d1_urdf_mk_5_2_material">
<color rgba="0.2313725490196078538 0.38039215686274507888 0.7058823529411765163 1.0"/>
</material>
</visual>
<collision>
<origin xyz="-0.0090000000000002300382 -0.005999999999999961961 -0.0047499999999967203873" rpy="-1.5707963267948961139 8.3887279286789822708e-17 0" />
<geometry>
<mesh filename="meshes/d1_urdf_mk_5_2.stl"/>
</geometry>
</collision>
<inertial>
<origin xyz="0 0 0" rpy="0 0 0"/>
<mass value="0" />
<inertia ixx="0" ixy="0"  ixz="0" iyy="0" iyz="0" izz="0" />
</inertial>
</link>

<joint name="Lmiddle_34" type="revolute">
<origin xyz="-0.025000000000000022204 -2.6888213877640509963e-17 -0.00049999999999999307151" rpy="-1.2709521987871855322e-17 -6.9135862519869839114e-16 2.4424906541751933221e-15" />
<parent link="part_1_10" />
<child link="d1_urdf_mk_5_2" />
<axis xyz="0 0 1"/>
<limit effort="1" velocity="20" lower="0" upper="1.570796326794896558"/>
<joint_properties friction="0.0"/>
</joint>

<joint name="Lmiddle_23" type="revolute">
<origin xyz="-0.038000000000001060707 0.00074999999999993734873 -0.00074999999999999893141" rpy="6.7528543949465342288e-15 -6.1407648507694162046e-15 -1.1160838221474575544e-15" />
<parent link="part_1_5" />
<child link="part_1_10" />
<axis xyz="0 0 1"/>
<limit effort="1" velocity="20" lower="0" upper="1.570796326794896558"/>
<joint_properties friction="0.0"/>
</joint>

<joint name="Lmiddle_12" type="revolute">
<origin xyz="-0.014749999999999985345 -0.0060000000000000226763 -0.0095000000000000431322" rpy="1.570796326794896336 1.0759775635408031871e-15 8.0772178685727677249e-16" />
<parent link="part_1_4" />
<child link="part_1_5" />
<axis xyz="0 0 1"/>
<limit effort="1" velocity="20" lower="0" upper="1.570796326794896558"/>
<joint_properties friction="0.0"/>
</joint>

<joint name="Lmiddle_01" type="revolute">
<origin xyz="0.008029968882457065929 0.17284073122410698042 0.013663106819823966909" rpy="-1.6137364330754959408e-16 4.3368086899388746184e-16 -1.5707963267948970021" />
<parent link="left_-_forearm_and_palm_subassembly_copy_1" />
<child link="part_1_4" />
<axis xyz="0 0 1"/>
<limit effort="1" velocity="20" lower="-0.29670597283903604735" upper="0.29670597283903604735"/>
<joint_properties friction="0.0"/>
</joint>

<link name="part_1_1">
<visual>
<origin xyz="-0.0050000000000000044409 1.3877787807814456755e-17 -0.018500000000000099698" rpy="-1.4485681946286607074e-16 8.5979375613828706871e-16 -1.2251454207773070243e-17" />
<geometry>
<mesh filename="meshes/part_1_1.stl"/>
</geometry>
<material name="part_1_1_material">
<color rgba="0.64705882352941179736 0.64705882352941179736 0.64705882352941179736 1.0"/>
</material>
</visual>
<collision>
<origin xyz="-0.0050000000000000044409 1.3877787807814456755e-17 -0.018500000000000099698" rpy="-1.4485681946286607074e-16 8.5979375613828706871e-16 -1.2251454207773070243e-17" />
<geometry>
<mesh filename="meshes/part_1_1.stl"/>
</geometry>
</collision>
<inertial>
<origin xyz="0 0 0" rpy="0 0 0"/>
<mass value="0" />
<inertia ixx="0" ixy="0"  ixz="0" iyy="0" iyz="0" izz="0" />
</inertial>
</link>

<link name="part_1_6">
<visual>
<origin xyz="-0.028552407289709647031 -0.0078589767938891073873 -0.0060000000000051314369" rpy="-1.570796326794896558 8.9966941061623328137e-16 1.2340869757317796685e-31" />
<geometry>
<mesh filename="meshes/part_1_6.stl"/>
</geometry>
<material name="part_1_6_material">
<color rgba="0.61568627450980395466 0.81176470588235294379 0.92941176470588238168 1.0"/>
</material>
</visual>
<collision>
<origin xyz="-0.028552407289709647031 -0.0078589767938891073873 -0.0060000000000051314369" rpy="-1.570796326794896558 8.9966941061623328137e-16 1.2340869757317796685e-31" />
<geometry>
<mesh filename="meshes/part_1_6.stl"/>
</geometry>
</collision>
<inertial>
<origin xyz="0 0 0" rpy="0 0 0"/>
<mass value="0" />
<inertia ixx="0" ixy="0"  ixz="0" iyy="0" iyz="0" izz="0" />
</inertial>
</link>

<link name="part_1_12">
<visual>
<origin xyz="-0.017524803018038770386 -0.0071295923980055925934 -0.005250000000000198952" rpy="-1.5707963267948970021 5.2907400671596298389e-16 7.5754338914812962462e-32" />
<geometry>
<mesh filename="meshes/part_1_12.stl"/>
</geometry>
<material name="part_1_12_material">
<color rgba="0.91764705882352937127 0.91764705882352937127 0.91764705882352937127 1.0"/>
</material>
</visual>
<collision>
<origin xyz="-0.017524803018038770386 -0.0071295923980055925934 -0.005250000000000198952" rpy="-1.5707963267948970021 5.2907400671596298389e-16 7.5754338914812962462e-32" />
<geometry>
<mesh filename="meshes/part_1_12.stl"/>
</geometry>
</collision>
<inertial>
<origin xyz="0 0 0" rpy="0 0 0"/>
<mass value="0" />
<inertia ixx="0" ixy="0"  ixz="0" iyy="0" iyz="0" izz="0" />
</inertial>
</link>

<link name="d1_urdf_mk_5_1">
<visual>
<origin xyz="-0.0090000000000002022826 -0.005999999999999961961 -0.0047499999999967203873" rpy="-1.5707963267948961139 7.2078656972232345122e-17 1.9721522630525295135e-31" />
<geometry>
<mesh filename="meshes/d1_urdf_mk_5_1.stl"/>
</geometry>
<material name="d1_urdf_mk_5_1_material">
<color rgba="0.2313725490196078538 0.38039215686274507888 0.7058823529411765163 1.0"/>
</material>
</visual>
<collision>
<origin xyz="-0.0090000000000002022826 -0.005999999999999961961 -0.0047499999999967203873" rpy="-1.5707963267948961139 7.2078656972232345122e-17 1.9721522630525295135e-31" />
<geometry>
<mesh filename="meshes/d1_urdf_mk_5_1.stl"/>
</geometry>
</collision>
<inertial>
<origin xyz="0 0 0" rpy="0 0 0"/>
<mass value="0" />
<inertia ixx="0" ixy="0"  ixz="0" iyy="0" iyz="0" izz="0" />
</inertial>
</link>

<joint name="Lpinky_34" type="revolute">
<origin xyz="-0.024999999999999938938 -7.097187421090112025e-16 -0.00049999999999996921907" rpy="2.4742140836575812771e-15 6.5241778583844836993e-15 -7.3963954661431224342e-16" />
<parent link="part_1_12" />
<child link="d1_urdf_mk_5_1" />
<axis xyz="0 0 1"/>
<limit effort="1" velocity="20" lower="0" upper="1.570796326794896558"/>
<joint_properties friction="0.0"/>
</joint>

<joint name="Lpinky_23" type="revolute">
<origin xyz="-0.038000000000001060707 0.00075000000000002473542 -0.00075000000000001801337" rpy="-2.1529034789365982452e-15 -4.7613750562082510911e-15 6.7302926209106530169e-16" />
<parent link="part_1_6" />
<child link="part_1_12" />
<axis xyz="0 0 1"/>
<limit effort="1" velocity="20" lower="0" upper="1.570796326794896558"/>
<joint_properties friction="0.0"/>
</joint>

<joint name="Lpinky_12" type="revolute">
<origin xyz="-0.014749999999999929834 -0.006000000000000024411 -0.0095000000000000431322" rpy="1.570796326794896558 8.0407598349801679937e-16 -1.5814339539472369399e-15" />
<parent link="part_1_1" />
<child link="part_1_6" />
<axis xyz="0 0 1"/>
<limit effort="1" velocity="20" lower="0" upper="1.570796326794896558"/>
<joint_properties friction="0.0"/>
</joint>

<joint name="Lpinky_01" type="revolute">
<origin xyz="-0.033788700260148282761 0.16087939097498410446 0.007663106819823952906" rpy="1.3301558927690134543e-17 3.2476273355292699202e-16 -1.4486232791551669763" />
<parent link="left_-_forearm_and_palm_subassembly_copy_1" />
<child link="part_1_1" />
<axis xyz="0 0 1"/>
<limit effort="1" velocity="20" lower="-0.29670597283903604735" upper="0.29670597283903604735"/>
<joint_properties friction="0.0"/>
</joint>

<link name="part_1_17">
<visual>
<origin xyz="-0.0049999999999999905631 1.3877787807814456755e-17 0.00062867965644036738482" rpy="-3.141592653589793116 -2.2603966484490559575e-17 1.641780634130188085e-17" />
<geometry>
<mesh filename="meshes/part_1_17.stl"/>
</geometry>
<material name="part_1_17_material">
<color rgba="0.2313725490196078538 0.38039215686274507888 0.7058823529411765163 1.0"/>
</material>
</visual>
<collision>
<origin xyz="-0.0049999999999999905631 1.3877787807814456755e-17 0.00062867965644036738482" rpy="-3.141592653589793116 -2.2603966484490559575e-17 1.641780634130188085e-17" />
<geometry>
<mesh filename="meshes/part_1_17.stl"/>
</geometry>
</collision>
<inertial>
<origin xyz="0 0 0" rpy="0 0 0"/>
<mass value="0" />
<inertia ixx="0" ixy="0"  ixz="0" iyy="0" iyz="0" izz="0" />
</inertial>
</link>

<link name="part_1_18">
<visual>
<origin xyz="-0.02927735623681019389 -0.0078134566939178223821 -0.0067500000000003251843" rpy="-1.5707963267948961139 4.3846207487402675317e-16 -1.0428547370441645257e-17" />
<geometry>
<mesh filename="meshes/part_1_18.stl"/>
</geometry>
<material name="part_1_18_material">
<color rgba="0.64705882352941179736 0.64705882352941179736 0.64705882352941179736 1.0"/>
</material>
</visual>
<collision>
<origin xyz="-0.02927735623681019389 -0.0078134566939178223821 -0.0067500000000003251843" rpy="-1.5707963267948961139 4.3846207487402675317e-16 -1.0428547370441645257e-17" />
<geometry>
<mesh filename="meshes/part_1_18.stl"/>
</geometry>
</collision>
<inertial>
<origin xyz="0 0 0" rpy="0 0 0"/>
<mass value="0" />
<inertia ixx="0" ixy="0"  ixz="0" iyy="0" iyz="0" izz="0" />
</inertial>
</link>

<link name="part_1_19">
<visual>
<origin xyz="-0.01752480301803861773 -0.0071295923980051884028 -0.0062499999999999361622" rpy="-1.57079632679489678 5.8655132357618849585e-16 1.0573383494856618304e-17" />
<geometry>
<mesh filename="meshes/part_1_19.stl"/>
</geometry>
<material name="part_1_19_material">
<color rgba="0.61568627450980395466 0.81176470588235294379 0.92941176470588238168 1.0"/>
</material>
</visual>
<collision>
<origin xyz="-0.01752480301803861773 -0.0071295923980051884028 -0.0062499999999999361622" rpy="-1.57079632679489678 5.8655132357618849585e-16 1.0573383494856618304e-17" />
<geometry>
<mesh filename="meshes/part_1_19.stl"/>
</geometry>
</collision>
<inertial>
<origin xyz="0 0 0" rpy="0 0 0"/>
<mass value="0" />
<inertia ixx="0" ixy="0"  ixz="0" iyy="0" iyz="0" izz="0" />
</inertial>
</link>

<link name="part_1_20">
<visual>
<origin xyz="-0.0089999999999997304378 -0.0060000000000001024736 -0.0057500000000045292659" rpy="-1.570796326794896558 2.7659581394880849102e-16 -3.2451090108264882345e-17" />
<geometry>
<mesh filename="meshes/part_1_20.stl"/>
</geometry>
<material name="part_1_20_material">
<color rgba="0.49803921568627451677 0.49803921568627451677 0.49803921568627451677 1.0"/>
</material>
</visual>
<collision>
<origin xyz="-0.0089999999999997304378 -0.0060000000000001024736 -0.0057500000000045292659" rpy="-1.570796326794896558 2.7659581394880849102e-16 -3.2451090108264882345e-17" />
<geometry>
<mesh filename="meshes/part_1_20.stl"/>
</geometry>
</collision>
<inertial>
<origin xyz="0 0 0" rpy="0 0 0"/>
<mass value="0" />
<inertia ixx="0" ixy="0"  ixz="0" iyy="0" iyz="0" izz="0" />
</inertial>
</link>

<joint name="Lthumb_34" type="revolute">
<origin xyz="-0.02499999999999967526 -4.1633363423443370266e-16 0.0010000000000001812994" rpy="-4.688261135798667998e-15 5.1314037363500808475e-15 -2.2740228943043686611e-14" />
<parent link="part_1_19" />
<child link="part_1_20" />
<axis xyz="0 0 1"/>
<limit effort="1" velocity="20" lower="0" upper="1.570796326794896558"/>
<joint_properties friction="0.0"/>
</joint>

<joint name="Lthumb_23" type="revolute">
<origin xyz="-0.038000000000000734579 0.00075000000000007005507 -0.00050000000000002819966" rpy="7.9795674991893524016e-15 -6.9940128816369752248e-16 2.9241053137382957057e-14" />
<parent link="part_1_18" />
<child link="part_1_19" />
<axis xyz="0 0 1"/>
<limit effort="1" velocity="20" lower="0" upper="1.570796326794896558"/>
<joint_properties friction="0.0"/>
</joint>

<joint name="Lthumb_12" type="revolute">
<origin xyz="-0.014750000000000006162 0.0067499999999999782396 -0.0077500000000000485167" rpy="-1.570796326794896558 -2.6958623546826084004e-14 1.0018716920633894887e-15" />
<parent link="part_1_17" />
<child link="part_1_18" />
<axis xyz="0 0 1"/>
<limit effort="1" velocity="20" lower="0" upper="1.570796326794896558"/>
<joint_properties friction="0.0"/>
</joint>

<joint name="Lthumb_01" type="revolute">
<origin xyz="0.018692787601649763635 0.12769733957579351702 -0.020177738873889142224" rpy="2.0752759914176541756 -1.0057357117290488535 3.1415926535897256144" />
<parent link="left_-_forearm_and_palm_subassembly_copy_1" />
<child link="part_1_17" />
<axis xyz="0 0 1"/>
<limit effort="1" velocity="20" lower="-0.64577182323790194296" upper="0.64577182323790194296"/>
<joint_properties friction="0.0"/>
</joint>


</robot>
